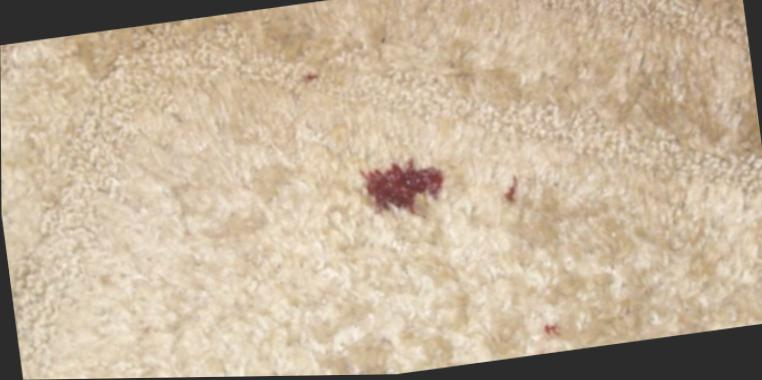Fire: (359, 158, 444, 219), (502, 176, 518, 202), (544, 325, 561, 337), (305, 73, 319, 81)
